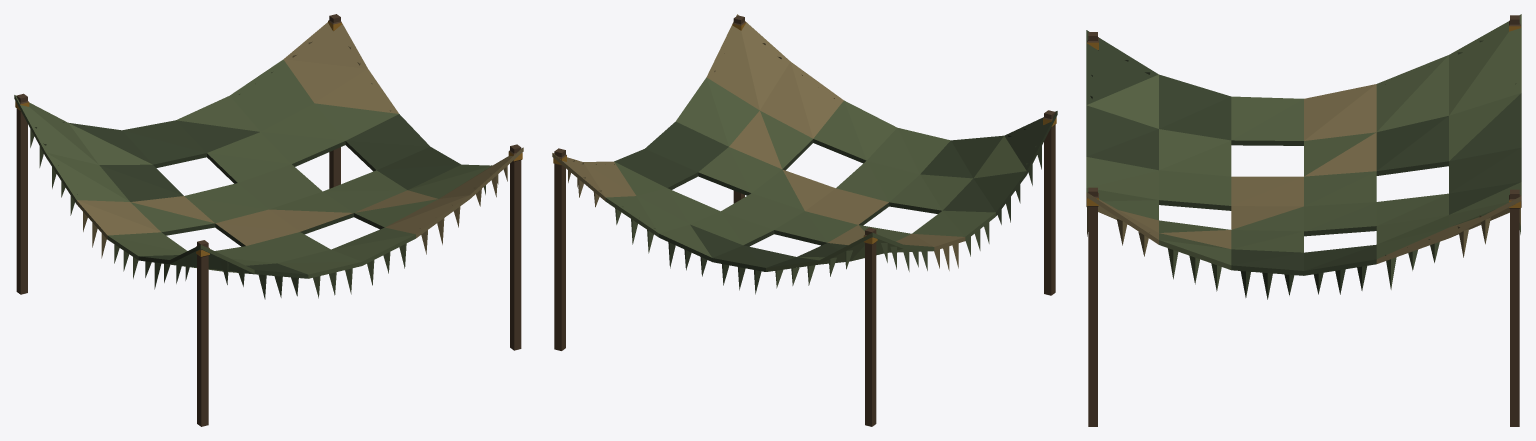
Rendered from camouflage-net-canopy-ce6249.glb.
3 renders of one model, left to right at view 1: azimuth 30°, elevation 25°; view 2: azimuth 150°, elevation 25°; view 3: azimuth 270°, elevation 25°, orthographic. The views are drawn at different scales.
Parts seen in each view (by area): view 1: net, camouflage-net-canopy; view 2: net, camouflage-net-canopy; view 3: net, camouflage-net-canopy.
Part boxes in pixels (left/top/right/bottom): net: left=14, top=21, right=523, bottom=299; camouflage-net-canopy: left=15, top=14, right=522, bottom=426; net: left=552, top=14, right=1057, bottom=294; camouflage-net-canopy: left=553, top=15, right=1056, bottom=426; net: left=1086, top=14, right=1521, bottom=299; camouflage-net-canopy: left=1087, top=15, right=1520, bottom=426.
Bounding box in the file's own units: 4 × 2.39 × 4.
